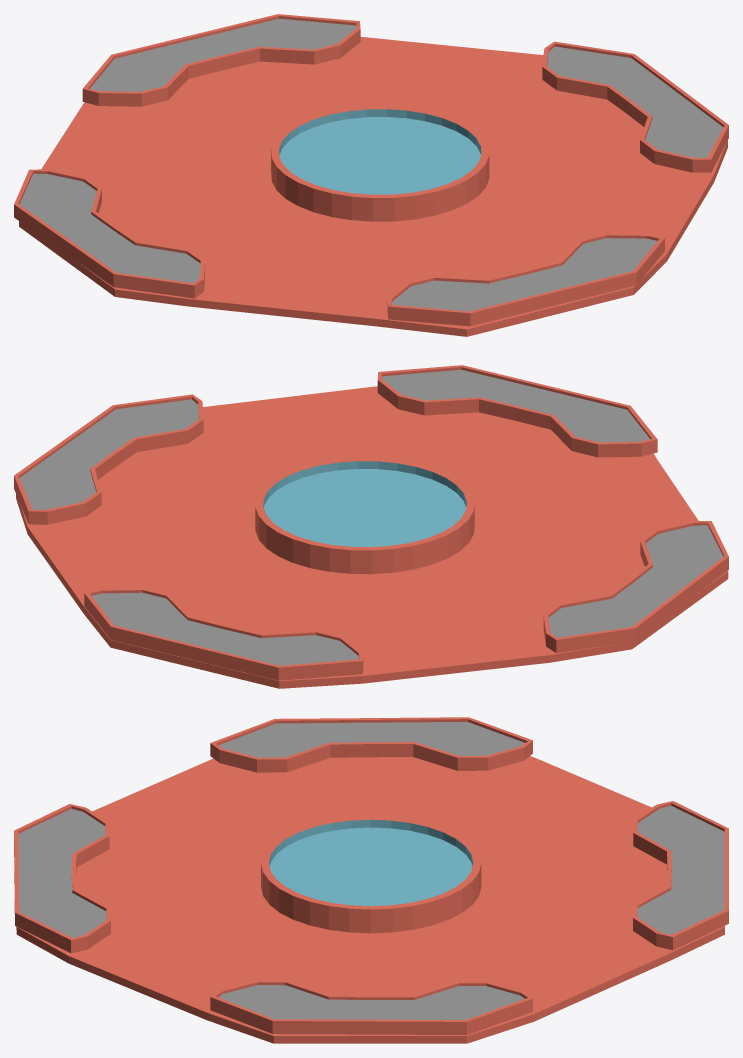
File: Fountain.fbx
3 views of the same model, one above another, from view 1: azimuth 30°, elevation 25°; view 2: azimuth 150°, elevation 25°; view 3: azimuth 270°, elevation 25° (orthographic).
Visible parts, largest first — view 1: Fountain; view 2: Fountain; view 3: Fountain.
Part boxes in pixels (<box>): Fountain: <box>14,14,728,336</box>; Fountain: <box>14,365,728,688</box>; Fountain: <box>14,717,728,1043</box>.
Bounding box in the file's own units: 654 × 33.45 × 649.
